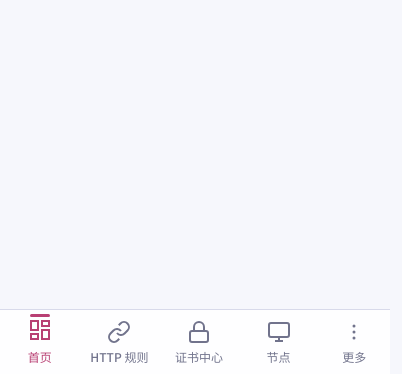
Scenario: mobile navigation › lists services in the more menu
This screenshot has width=402, height=374.
Click the button with aria-label "更多" at (354, 342), box [318,310,390,373]
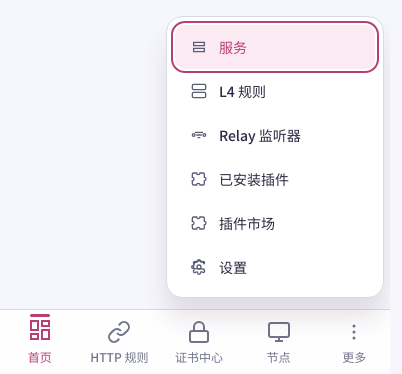
Check: the menu item to "/services" reads "服务", box [175,25,375,69]
